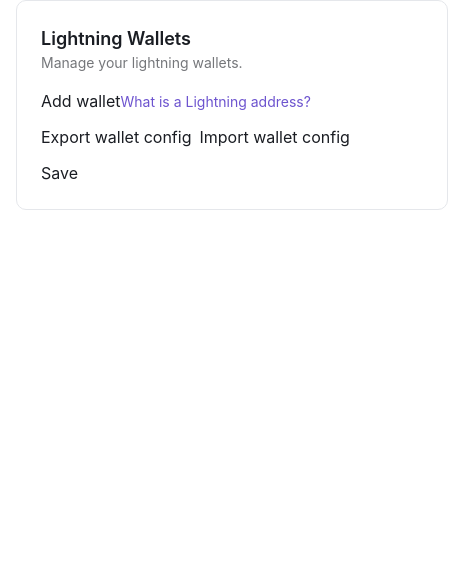
Test: LightningCard › shows error for invalid wallet
Click the button "Add wallet" at (81, 101), box x1=41 y1=89 x2=120 y2=113
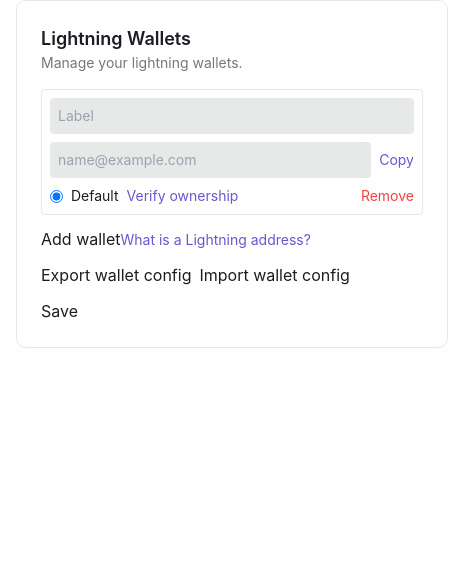
Type "Main" into the field with placeholder "Label" at (232, 116), box x1=50 y1=98 x2=414 y2=134
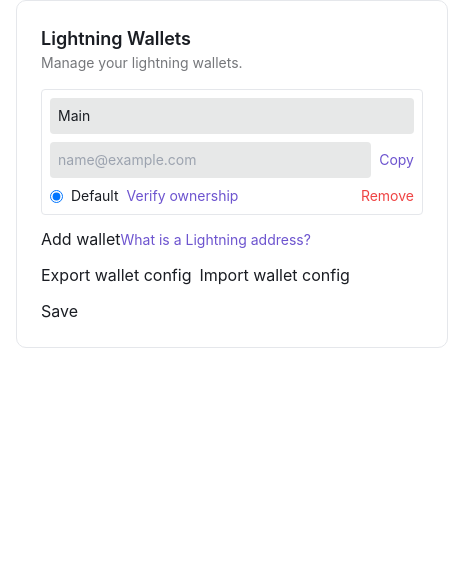
Type "bad" into the field with placeholder "name@example.com" at (211, 160), box x1=50 y1=142 x2=371 y2=178
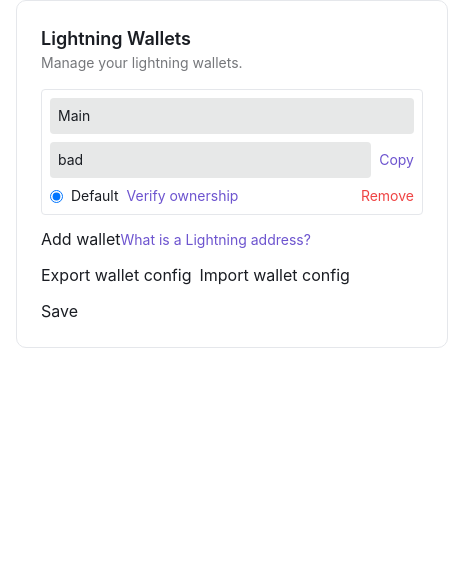
Click the button "Save" at (60, 311), box x1=41 y1=299 x2=78 y2=323
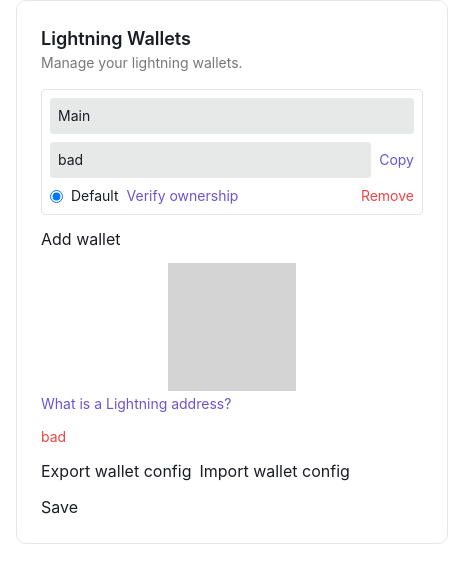
expect the text "bad" is shown: met, box x1=41 y1=428 x2=66 y2=445
